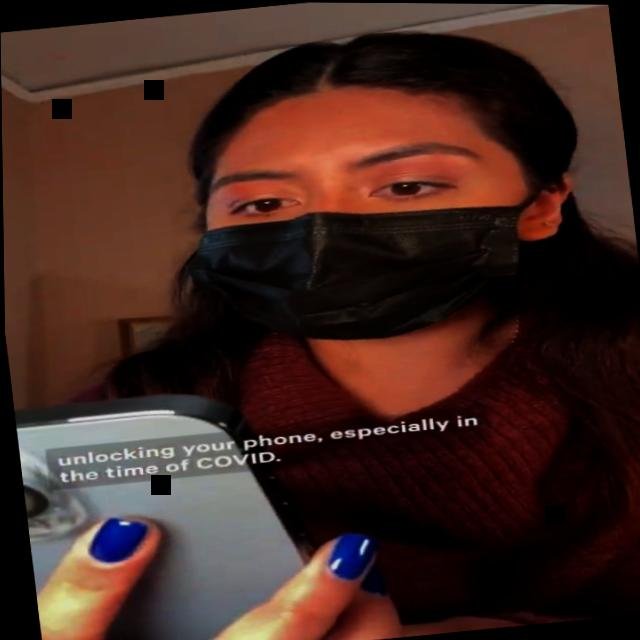Mask: (160, 60, 587, 379)
